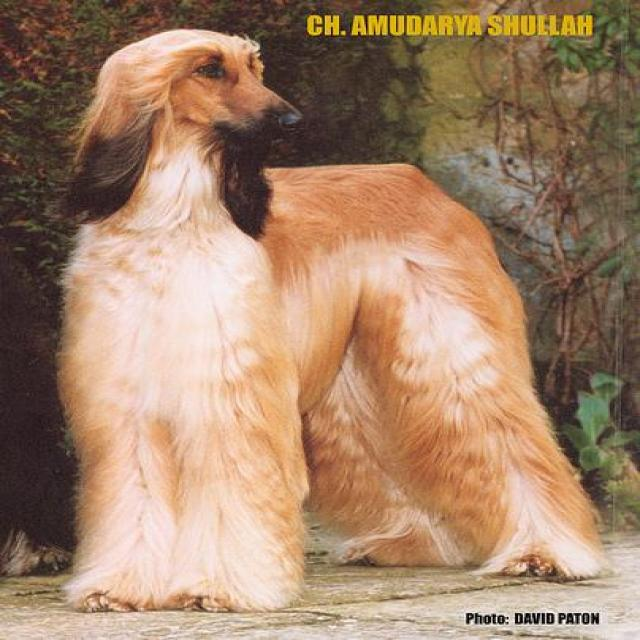afghan_hound: (43, 23, 611, 614)
